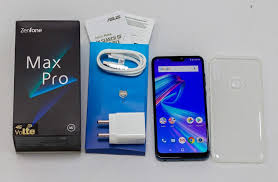asus: (148, 53, 213, 164)
